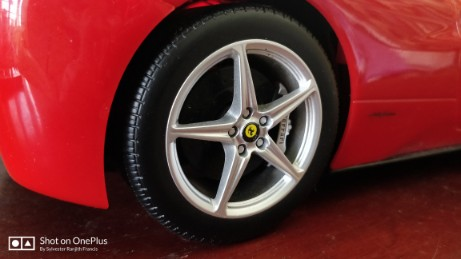aligned_wheel: (111, 1, 344, 243)
